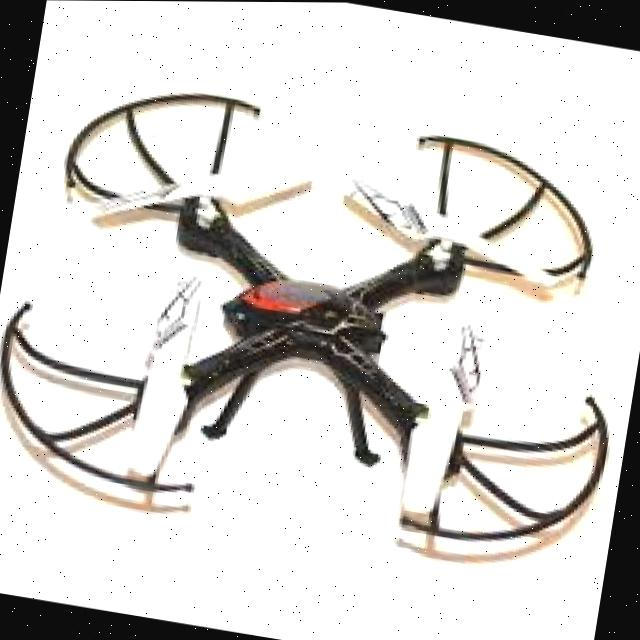drone: (0, 65, 640, 589)
